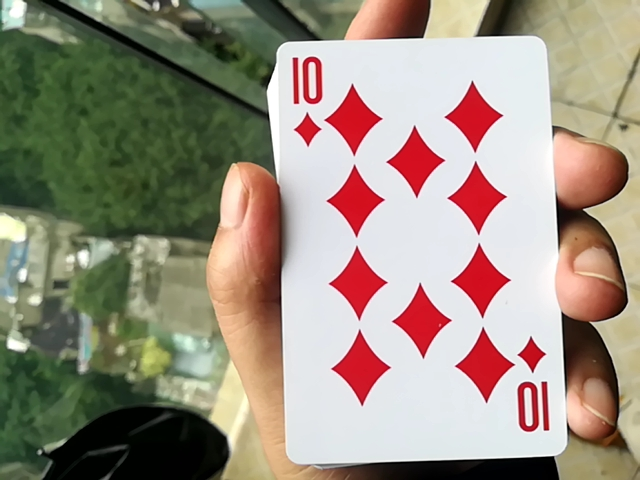fk 10: (249, 37, 576, 456)
